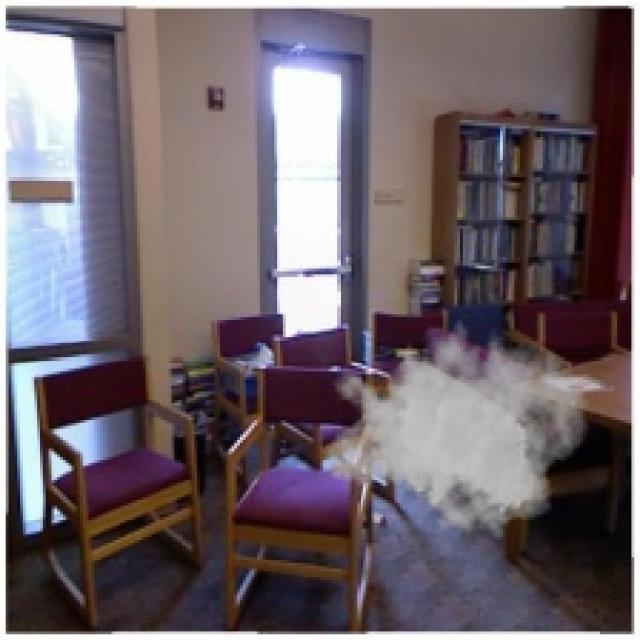Smoke: (322, 309, 588, 540)
